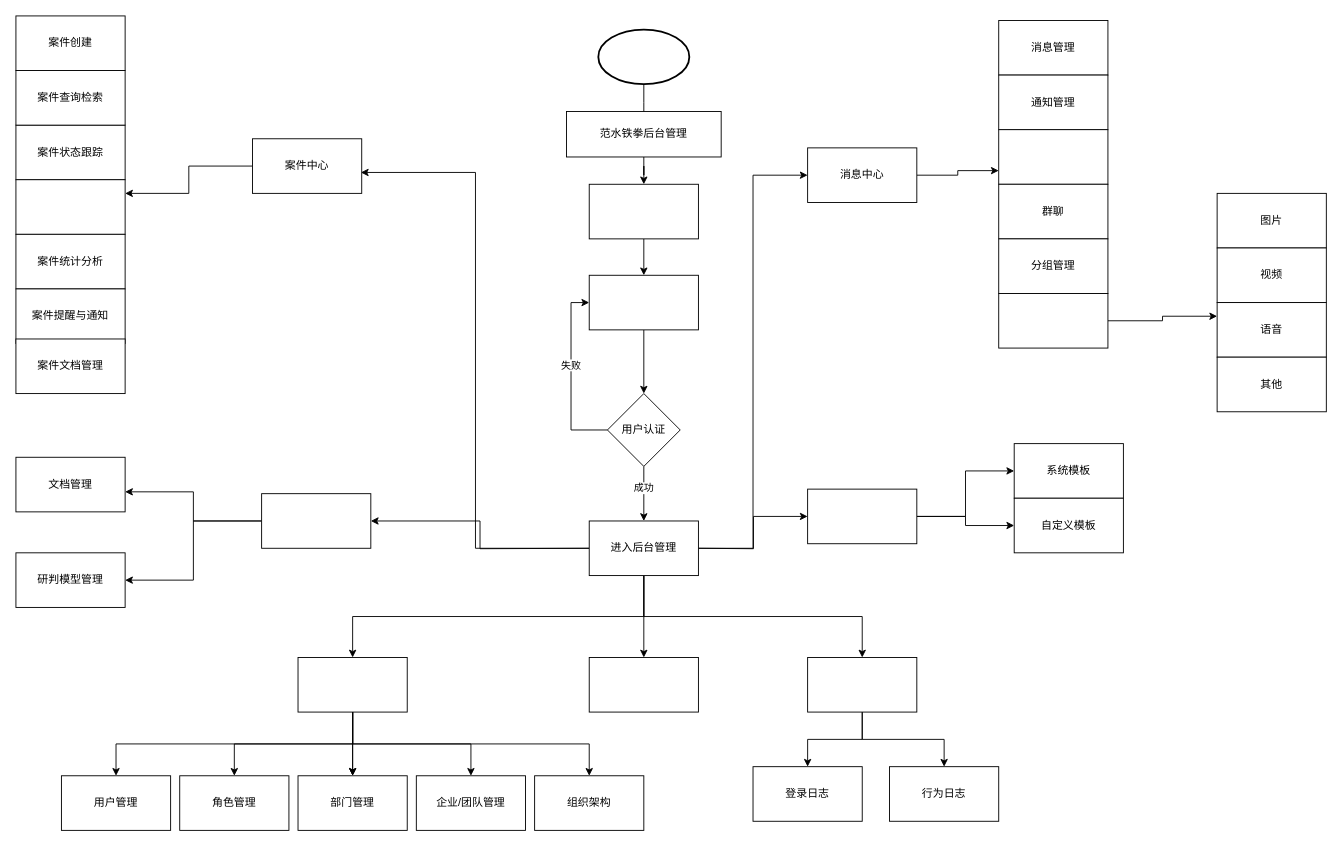
Some shapes in this 1342 by 846 pixel diagram are drawn without their labels. The centre of each missing label's shape, as x and y in pixels:
个人中心: [643,684]
单聊: [1053,156]
开始: [643,56]
文件管理: [1053,320]
日志中心: [862,684]
案件分配与流转: [70,206]
模板中心: [862,516]
注册: [643,211]
登录: [643,302]
研判中心: [316,520]
系统管理: [352,684]
